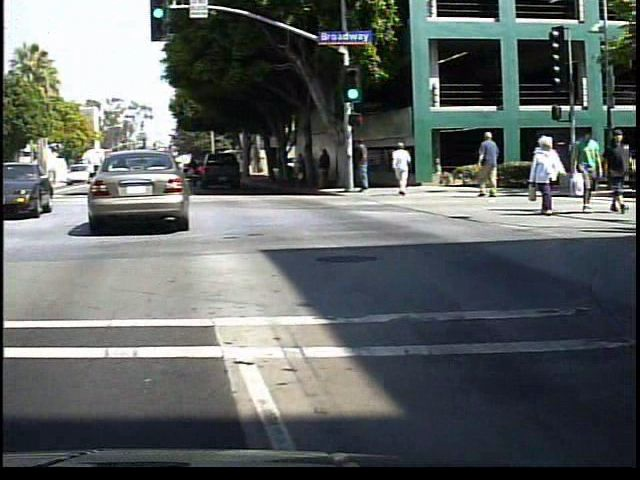person: (531, 136, 572, 216), (574, 128, 607, 216), (608, 127, 636, 213), (476, 132, 509, 199), (393, 140, 418, 199), (357, 136, 378, 200), (322, 146, 341, 191), (301, 151, 321, 190)
